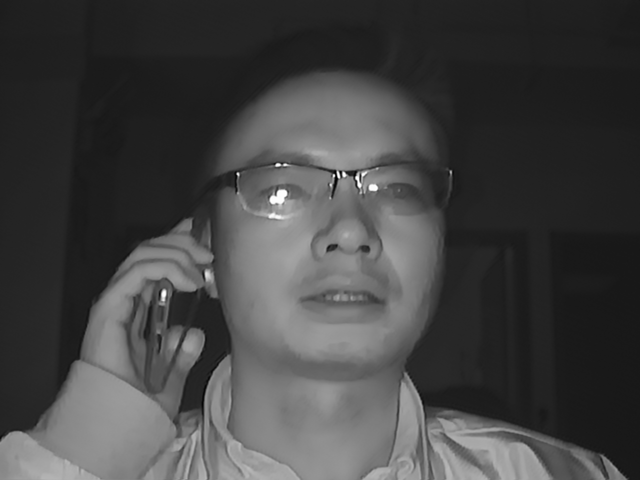hand: (87, 217, 210, 388)
